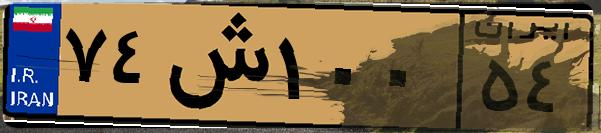0: (385, 28, 445, 110), (330, 28, 385, 110)
1: (270, 28, 330, 110)
4: (525, 38, 570, 115), (110, 28, 158, 98)
5: (475, 38, 525, 113)
7: (57, 26, 110, 100)
ش: (158, 12, 270, 120)
